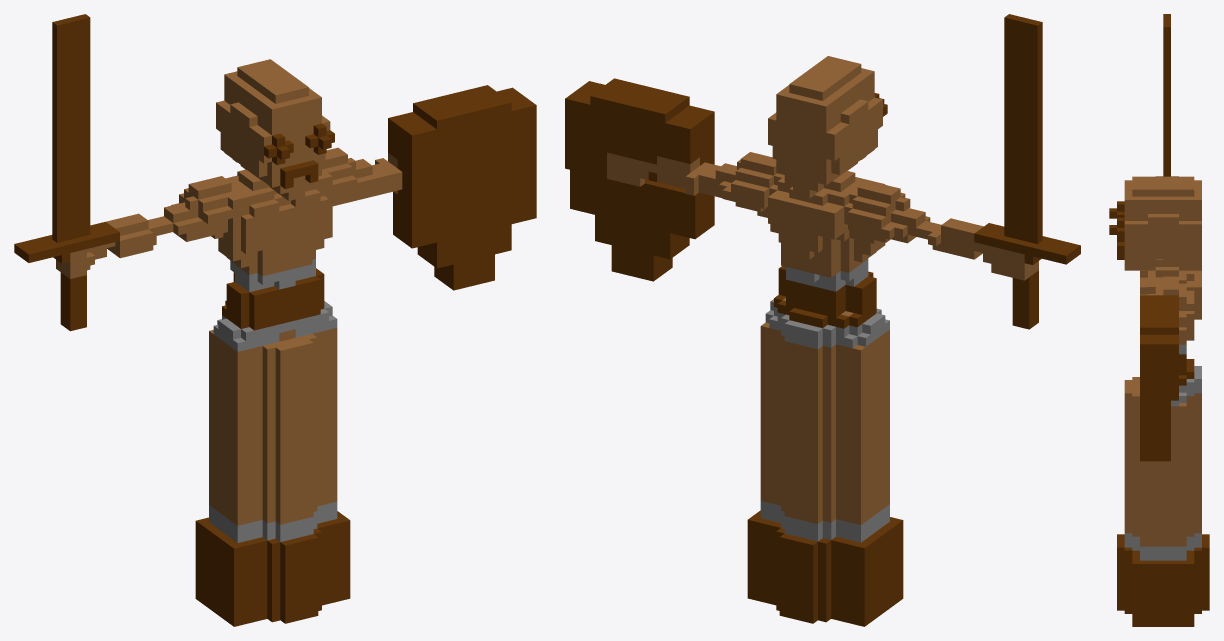
Rendered from dummy.obj.
3 views of the same model, side by side, from view 1: azimuth 30°, elevation 25°; view 2: azimuth 150°, elevation 25°; view 3: azimuth 270°, elevation 25° (orthographic). The views are drawn at different scales.
Bounding box in the file's own units: 60 × 72 × 13.
1 material, 1 textured.
